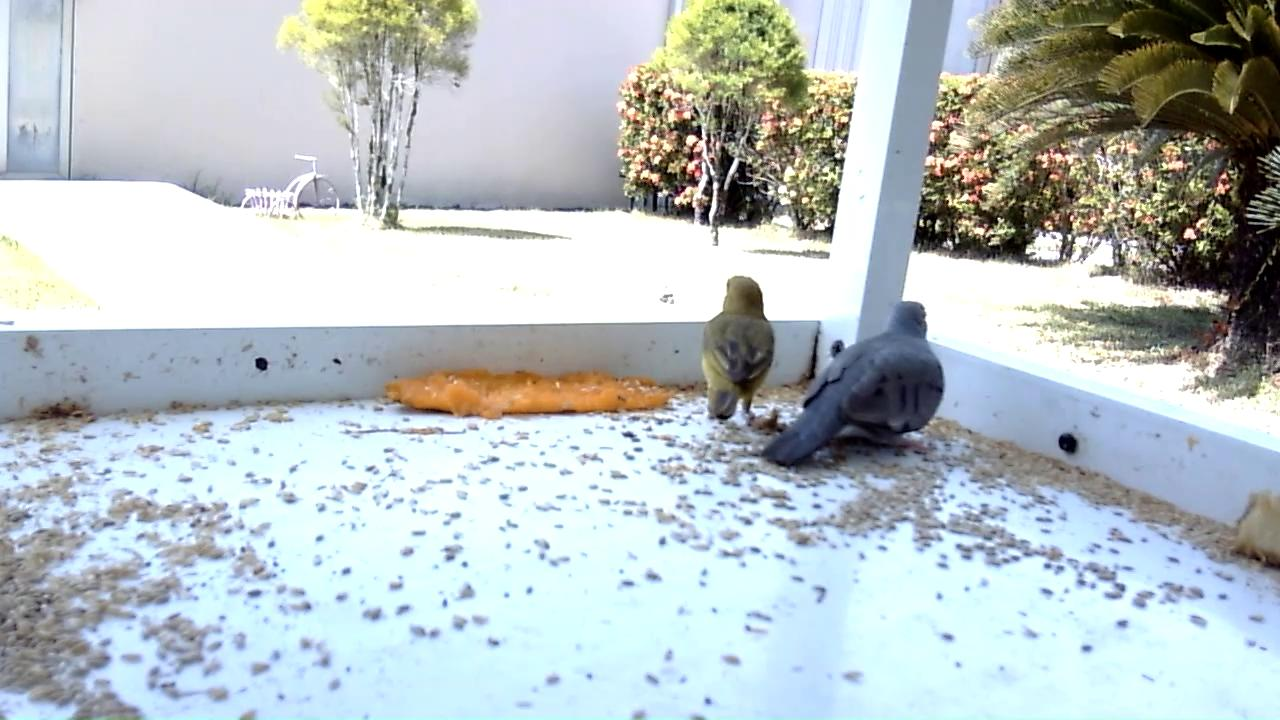canario_do_amazonas: (700, 274, 777, 429)
rolinha: (760, 299, 950, 472)
